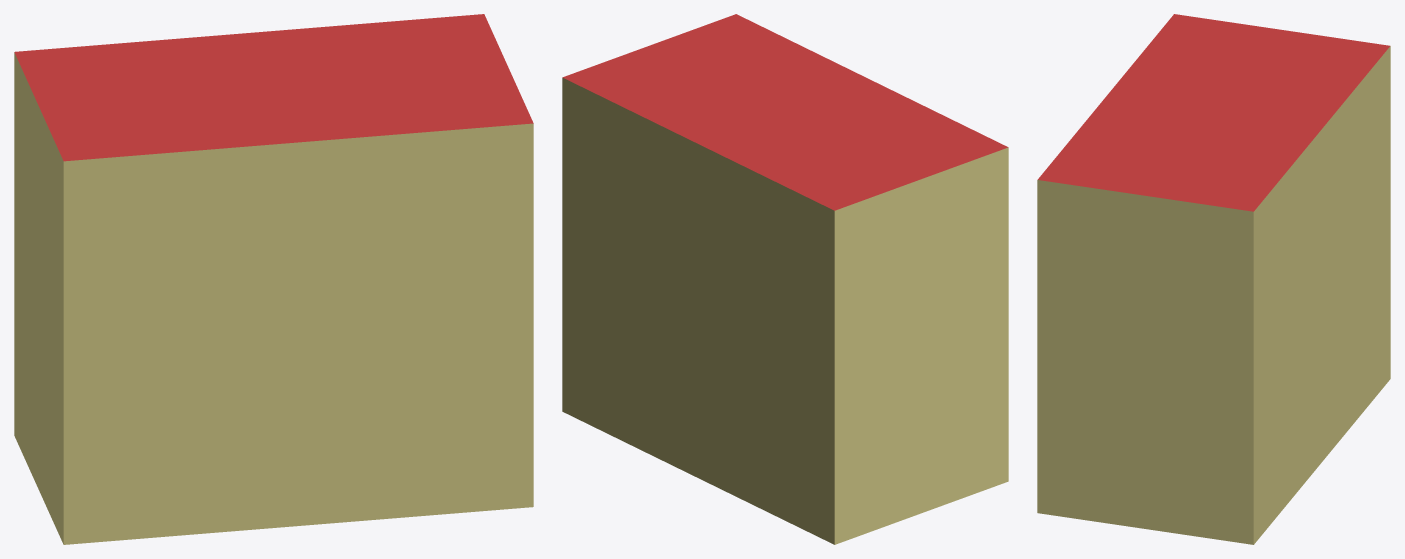
3 views of the same model, side by side, from view 1: azimuth 30°, elevation 25°; view 2: azimuth 150°, elevation 25°; view 3: azimuth 270°, elevation 25° (orthographic). The views are drawn at different scales.
Parts seen in each view (by area): view 1: group_4, group_3; view 2: group_4, group_3; view 3: group_4, group_3.
Part boxes in pixels (box(x1,y1,x2,y2)): group_4: box(14, 52, 533, 544); group_3: box(14, 14, 533, 161); group_4: box(562, 77, 1008, 544); group_3: box(562, 14, 1008, 210); group_4: box(1037, 46, 1390, 544); group_3: box(1037, 14, 1389, 211).
Size of the model in its own units: 9.94 by 7.5 by 7.81.
